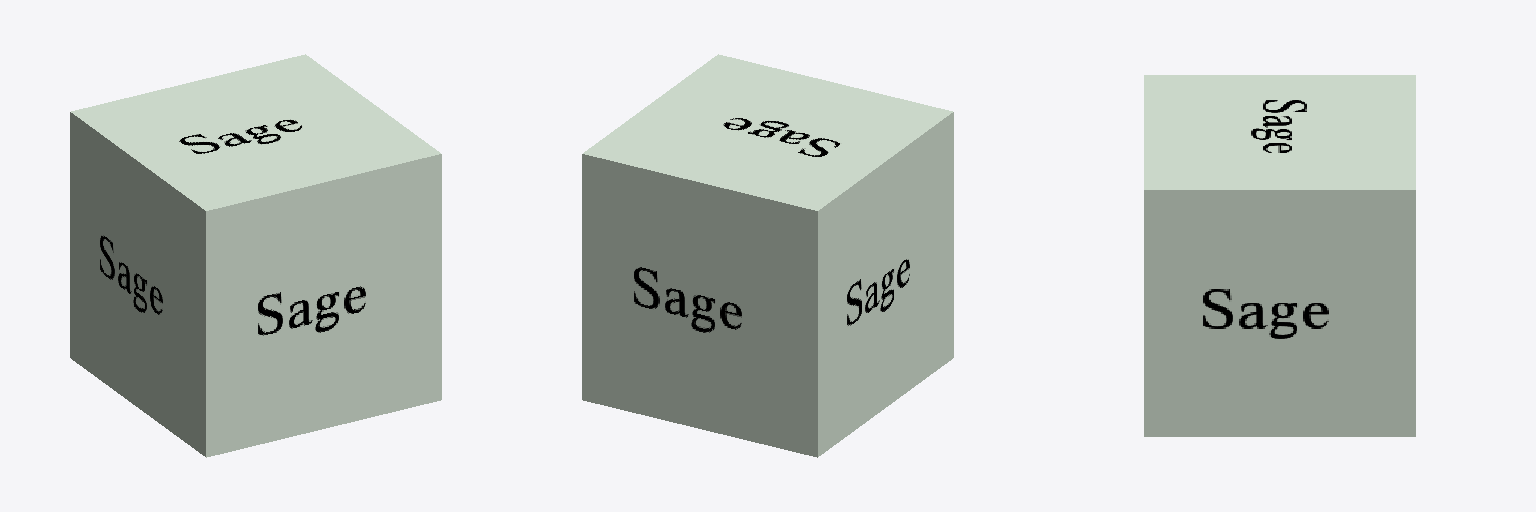
3 views of the same model, side by side, from view 1: azimuth 30°, elevation 25°; view 2: azimuth 150°, elevation 25°; view 3: azimuth 270°, elevation 25° (orthographic).
Parts seen in each view (by area): view 1: Cube; view 2: Cube; view 3: Cube.
Boxes of the visible parts, x1=… form: Cube: x1=70, y1=54, x2=441, y2=457; Cube: x1=582, y1=54, x2=953, y2=457; Cube: x1=1144, y1=75, x2=1415, y2=436.
Size of the model in its own units: 0.6 by 0.6 by 0.6.
1 materials, 1 textured.